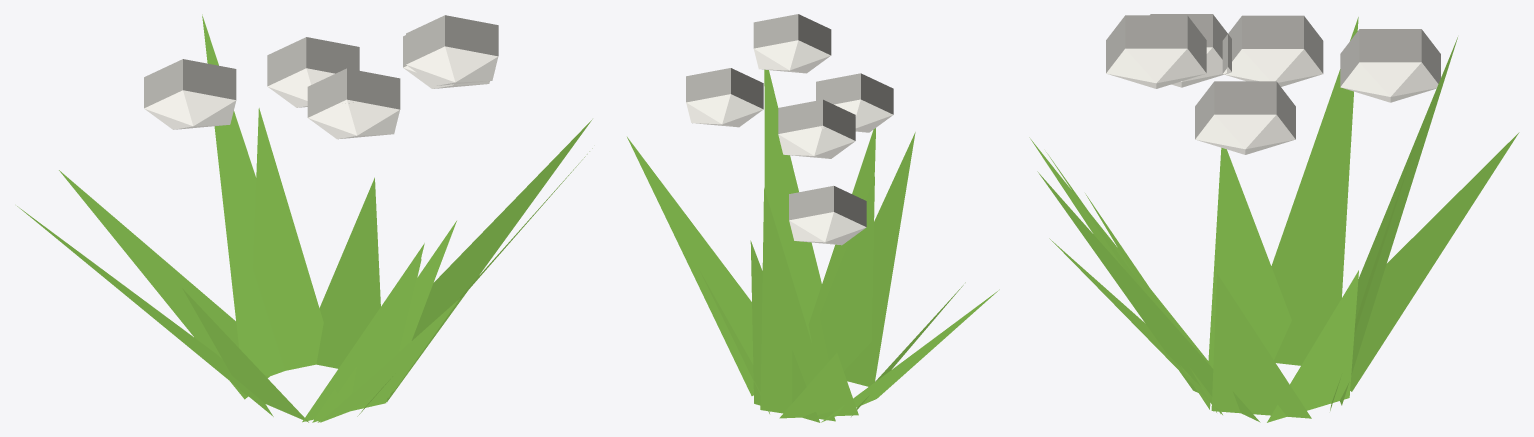
3 views of the same model, side by side, from view 1: azimuth 30°, elevation 25°; view 2: azimuth 150°, elevation 25°; view 3: azimuth 270°, elevation 25° (orthographic). The views are drawn at different scales.
Parts seen in each view (by area): view 1: flowers-white; view 2: flowers-white; view 3: flowers-white.
Boxes of the visible parts, <box> form: flowers-white: <box>17,14,592,422</box>; flowers-white: <box>627,14,999,422</box>; flowers-white: <box>1029,14,1519,422</box>.
Bounding box in the file's own units: 0.6191 × 0.4506 × 0.4816.
